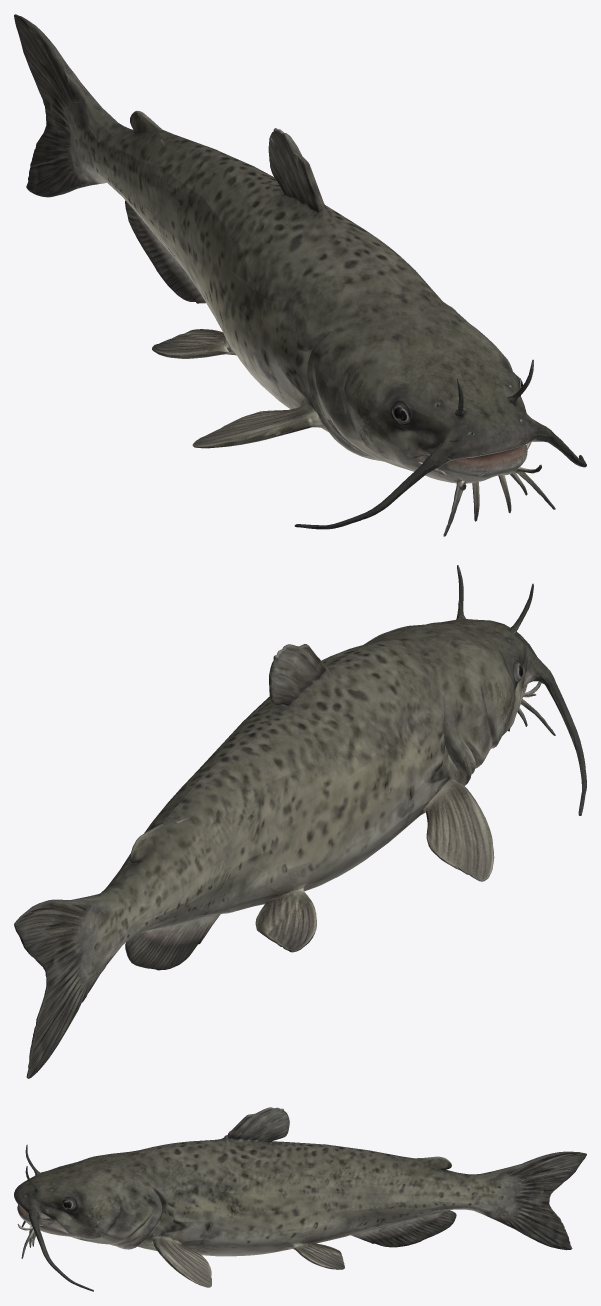
The model's file is catfish.glb.
3 renders of one model, top to bottom at view 1: azimuth 30°, elevation 25°; view 2: azimuth 150°, elevation 25°; view 3: azimuth 270°, elevation 25°, orthographic. The views are drawn at different scales.
Size of the model in its own units: 0.6556 by 0.5334 by 1.9.
Materials: 1 (1 with a texture image).
